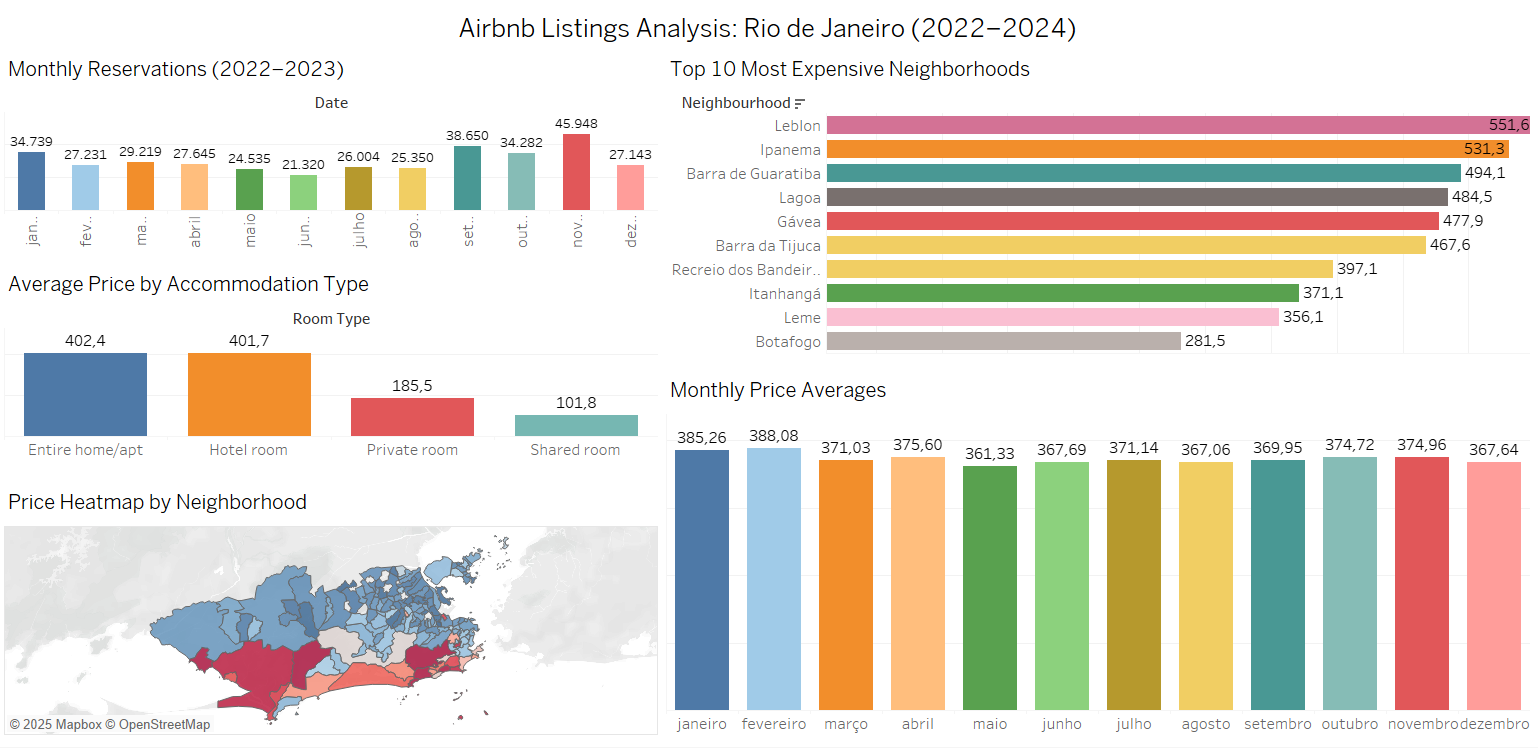

What the dashboard file says about the page in this screenshot:
{"tool":"tableau","page":{"name":"Dashboard 1","canvas":[1000,1000],"units":"permille","ordinal":0},"visuals":[{"type":"title","box":[5.2,10.7,989.7,53.6]},{"type":"worksheet","title":"Sheet 2","mark":"Bar","rows":["date"],"cols":["date"],"box":[5.2,64.3,427.1,288.3]},{"type":"worksheet","title":"Sheet 4","mark":"Automatic","rows":["neighbourhood"],"cols":["Calculation_671036382822666240"],"box":[432.3,64.3,562.5,430.4]},{"type":"worksheet","title":"Sheet 1","mark":"Automatic","rows":["Calculation_671036382822666240"],"cols":["room_type"],"box":[5.2,352.5,427.1,290.9]},{"type":"worksheet","title":"Sheet 5","mark":"Bar","rows":["Calculation_671036382822666240"],"cols":["date"],"box":[432.3,494.6,562.5,494.7]},{"type":"worksheet","title":"Sheet 3","mark":"Automatic","box":[5.2,643.5,427.1,345.8]}]}

Visuals, with their boxes on the dashboard's canvas, which has no fixed pixel size, in thousandths of its width and height (x1, y1, x2, y2). These are canvas units, not pixel positions in the 1538x748 screenshot, which may show the page scaled, cropped or inside an application window:
title: [left=5, top=11, right=995, bottom=64]
"Sheet 2" worksheet (Bar marks): [left=5, top=64, right=432, bottom=353]
"Sheet 4" worksheet: [left=432, top=64, right=995, bottom=495]
"Sheet 1" worksheet: [left=5, top=352, right=432, bottom=643]
"Sheet 5" worksheet (Bar marks): [left=432, top=495, right=995, bottom=989]
"Sheet 3" worksheet: [left=5, top=644, right=432, bottom=989]
